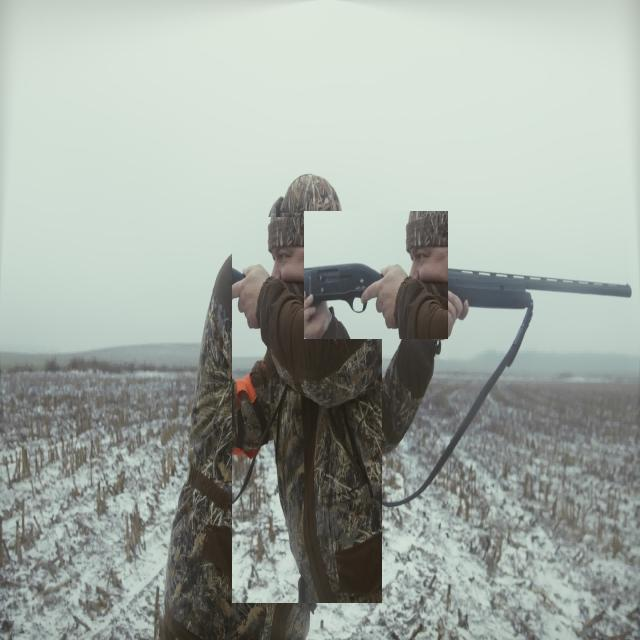poacher: (232, 217, 382, 603)
weapon: (304, 211, 448, 339)
